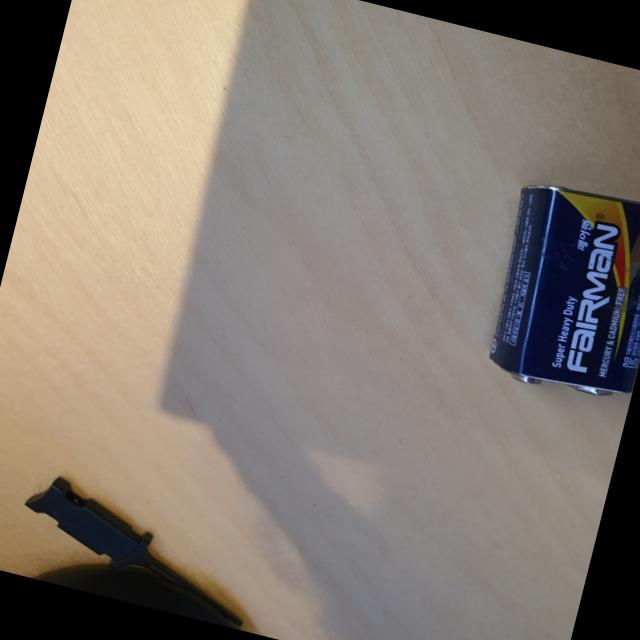battery-etc-etc: (471, 163, 640, 411)
